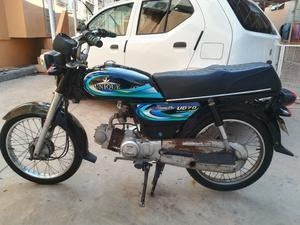motorcycle: (1, 18, 299, 212)
